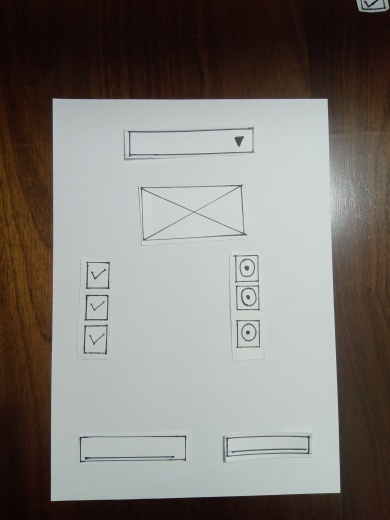checkbox: (86, 261, 109, 289), (85, 327, 108, 355), (88, 292, 111, 320)
dropdown: (125, 131, 254, 154)
img: (140, 188, 246, 242)
radio: (233, 256, 258, 282), (235, 319, 260, 345), (235, 285, 260, 311)
text: (77, 438, 185, 460), (221, 436, 310, 460)
